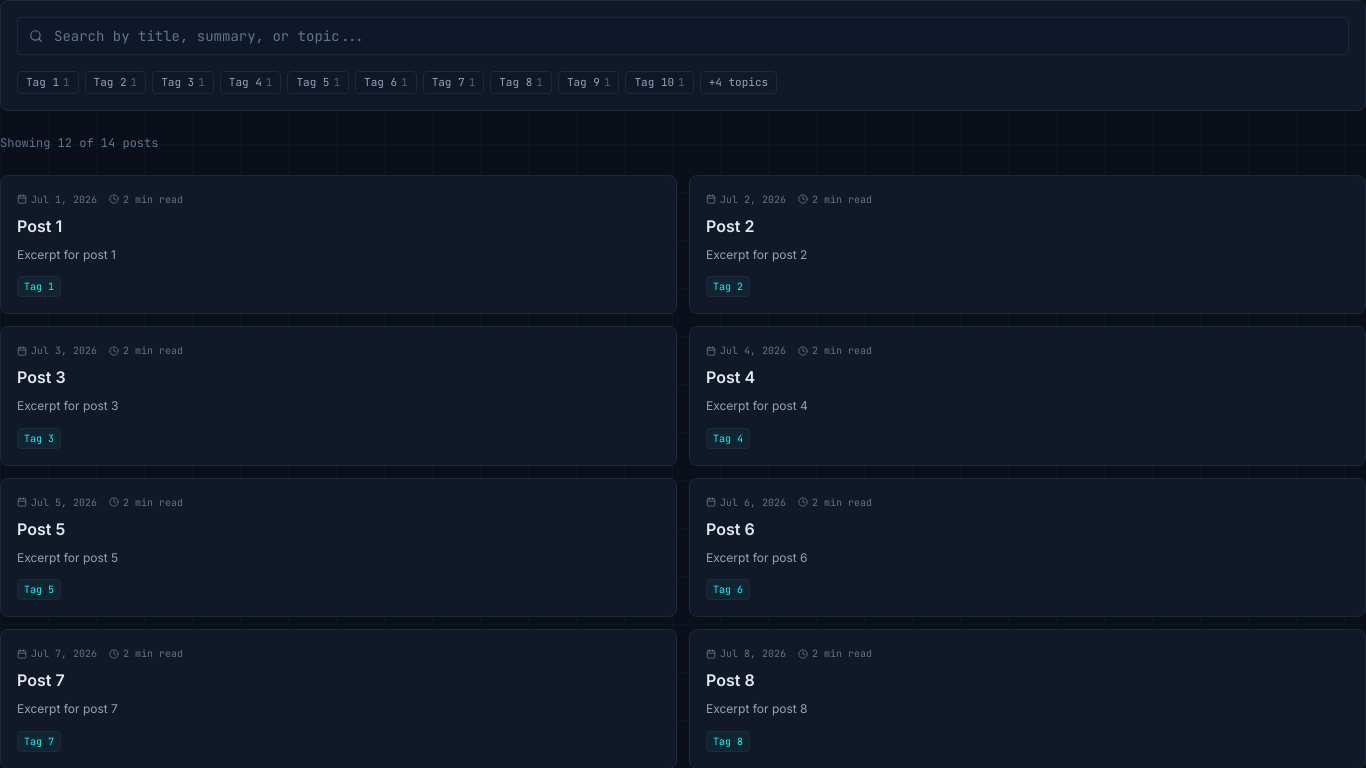
Scenario: BlogIndex › searches the full archive, including posts outside the first page
The width and height of the screenshot is (1366, 768).
Type "Post 14" into the field named "Search blog posts" at x=683, y=36, box [17,17,1349,55]
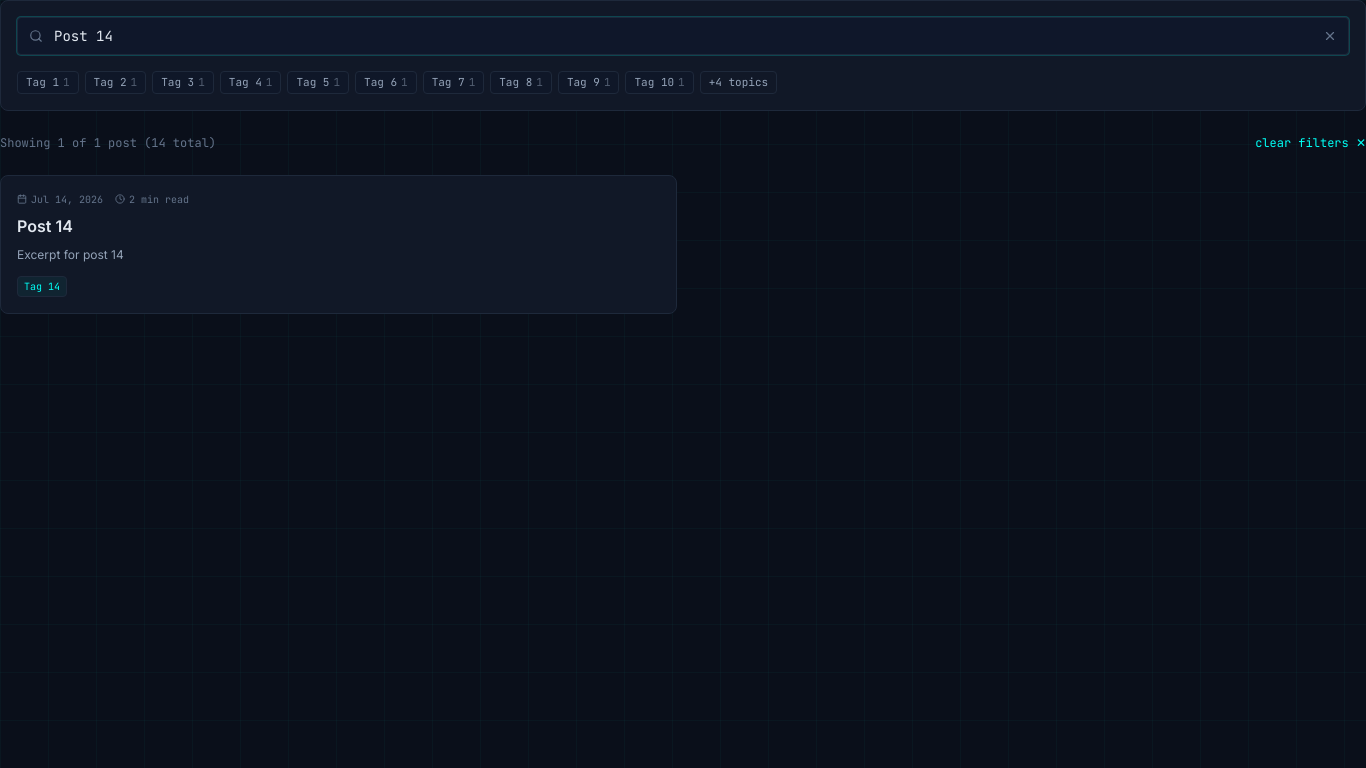
Expected: the heading "Post 14" is shown, [17,216,73,236]
